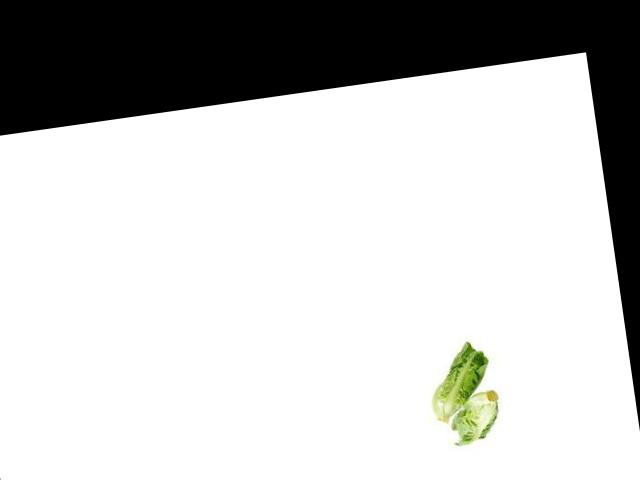lettuce: (370, 316, 543, 462)
